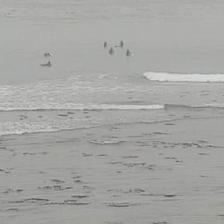surfer: (40, 61, 52, 68), (126, 49, 132, 57), (108, 48, 115, 54), (119, 40, 124, 46), (44, 52, 51, 56), (103, 41, 107, 48)
